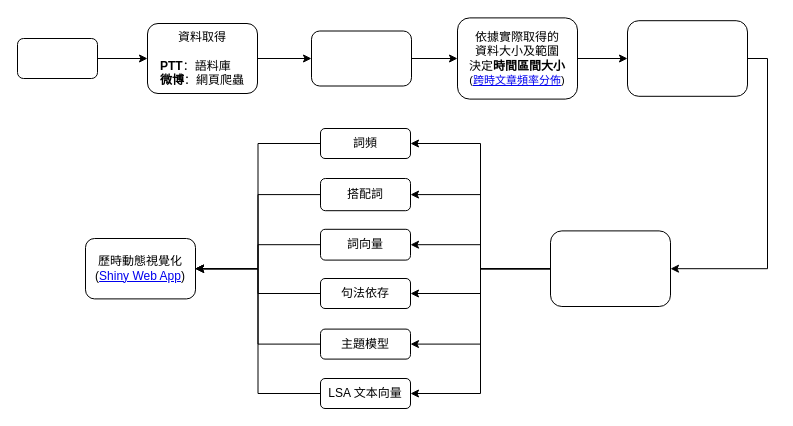
Some shapes in this 793 by 426 pixel diagram are drawn without their labels. The shapes that lost their labels are listed below. From the top down, each one's centre as x and y in pixels, then its label:
point (57, 58): 決定資料 時間範圍
point (361, 58): 斷詞 簡轉繁 統一用字差異
point (687, 58): 平衡 PTT/微博 語料大小差異 (對 PTT 進行抽樣)
point (610, 268): 依時間區間 建立 18 個子語料庫 (2 來源 ＊ 9 時間點)
